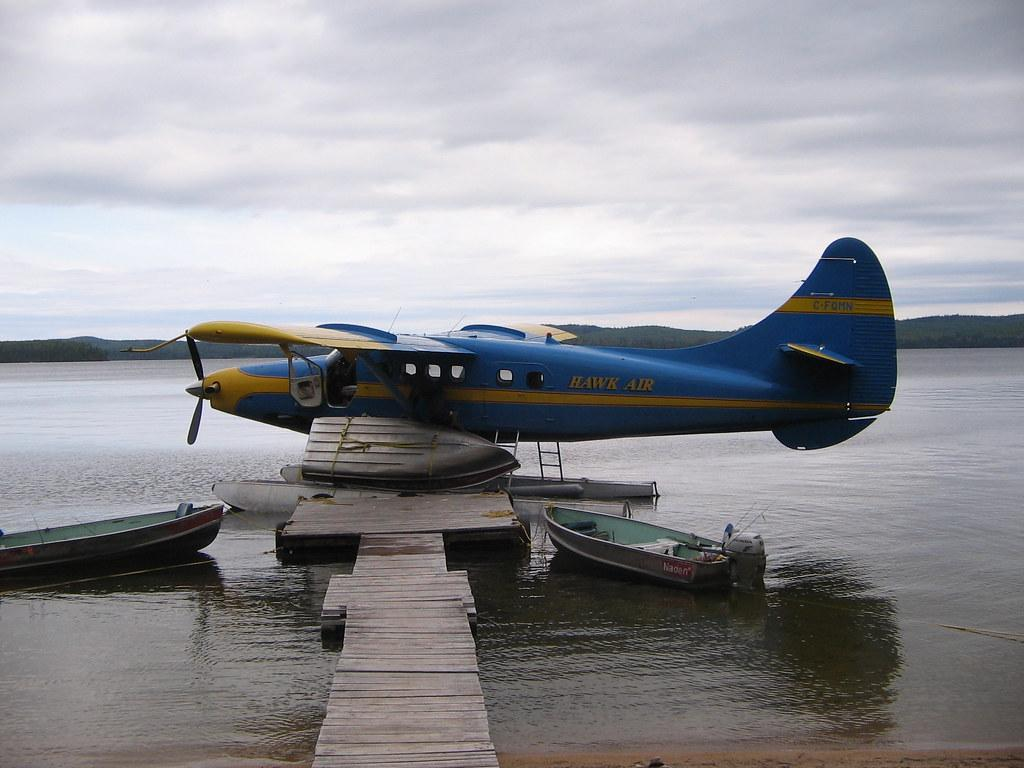plane: (122, 236, 900, 459)
